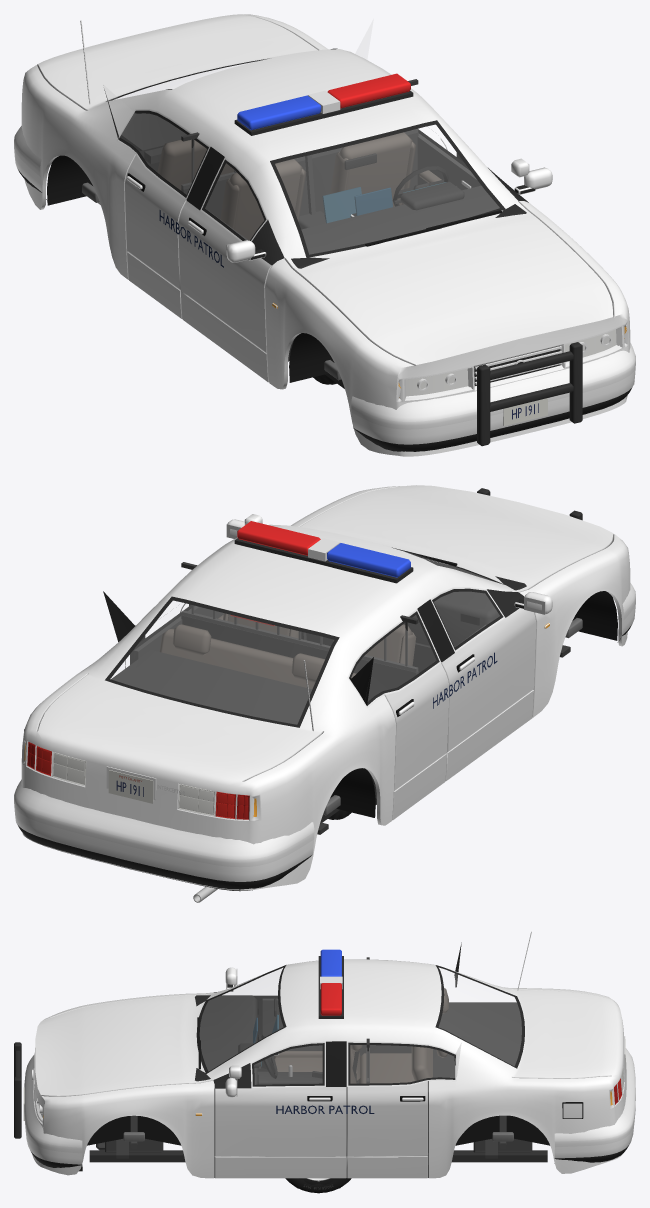
Rendered from cruiser.glb.
The picture shows the model from 3 angles, top to bottom: view 1: azimuth 30°, elevation 25°; view 2: azimuth 150°, elevation 25°; view 3: azimuth 270°, elevation 25°; orthographic projection. The views are drawn at different scales.
Visible parts, largest first — view 1: LOD0; view 2: LOD0; view 3: LOD0, WHEEL0.
Part boxes in pixels (x1=…): LOD0: x1=14, y1=14, x2=635, y2=456; LOD0: x1=14, y1=485, x2=635, y2=902; LOD0: x1=14, y1=931, x2=635, y2=1178; WHEEL0: x1=286, y1=1178, x2=351, y2=1192.
Size of what is drawn, in the model's own units: 2.23 by 1.86 by 4.89.
